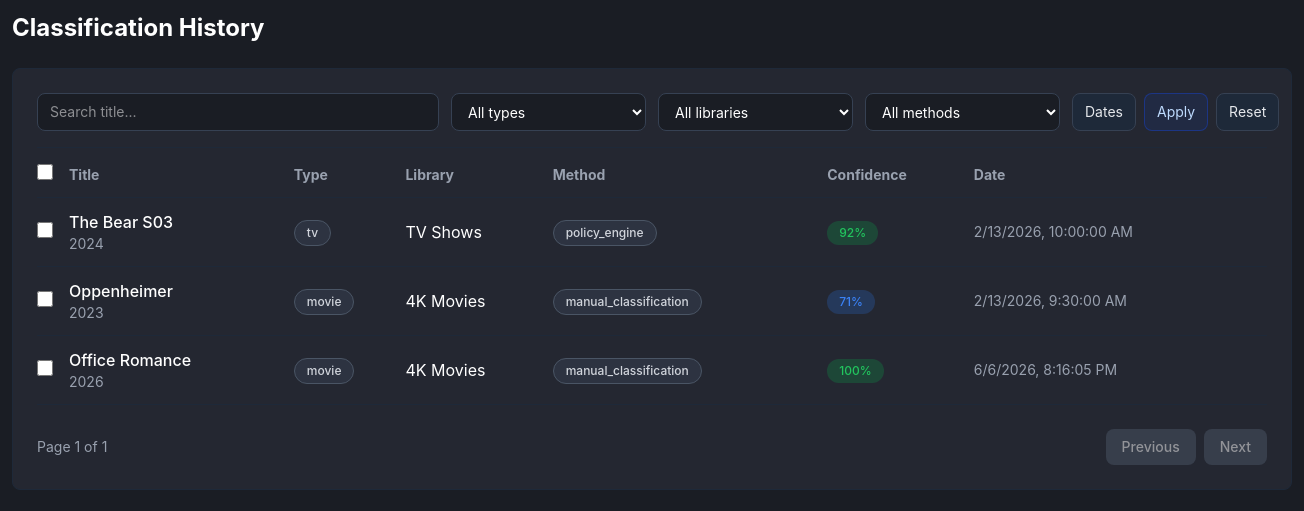
Scenario: History enhancements behavior › switches selection action label between Reclassify and Batch Reclassify
This screenshot has width=1304, height=511.
Click the checkbox next to "2024": coordinates (45, 230) [37, 222, 53, 238]
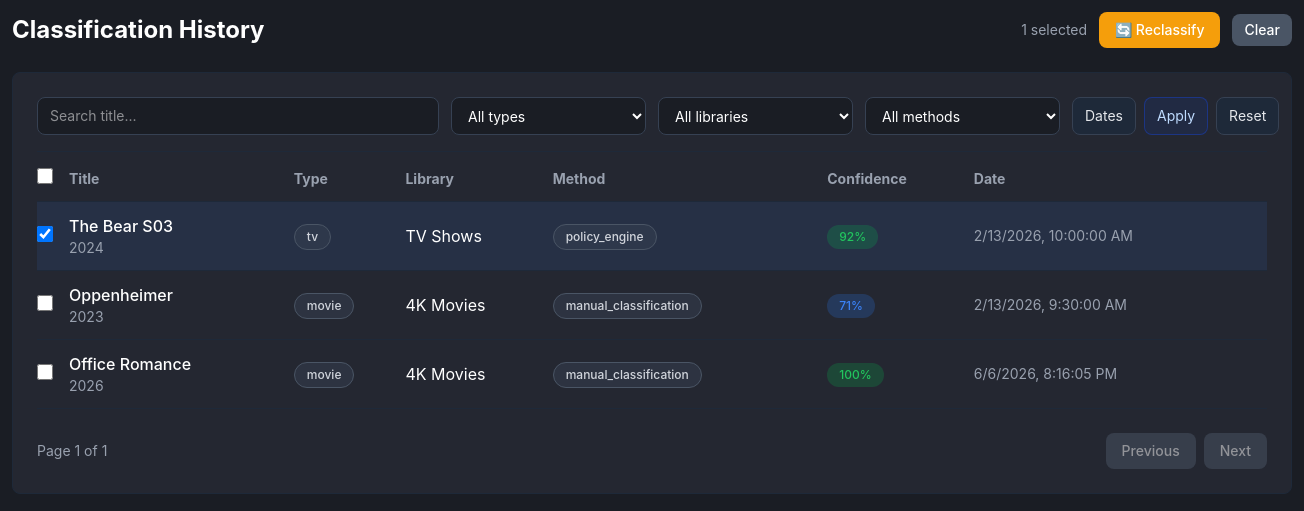
Check: the text "Batch Reclassify" is not shown
Check: the text "Reclassify" is shown, box [1099, 12, 1220, 48]
Click the checkbox next to "2023": coordinates (45, 303) [37, 295, 53, 311]
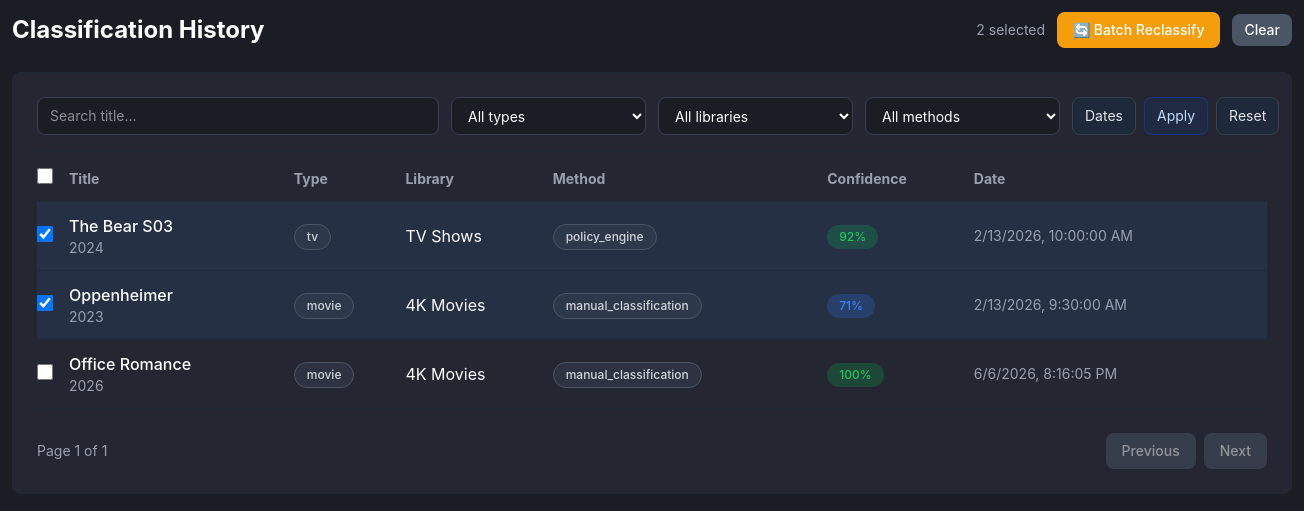
Check: the text "Batch Reclassify" is shown, box [1057, 12, 1220, 48]
